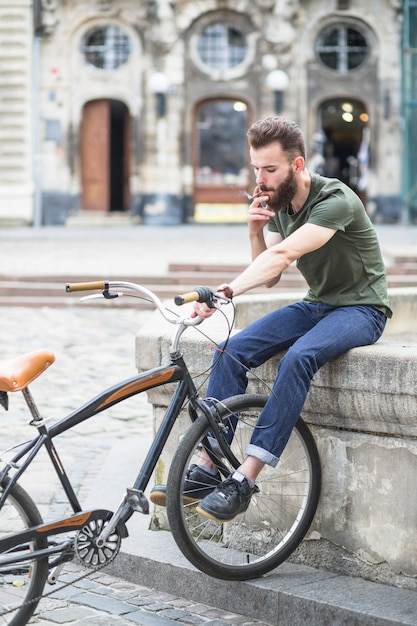cigarette: (248, 189, 263, 202)
